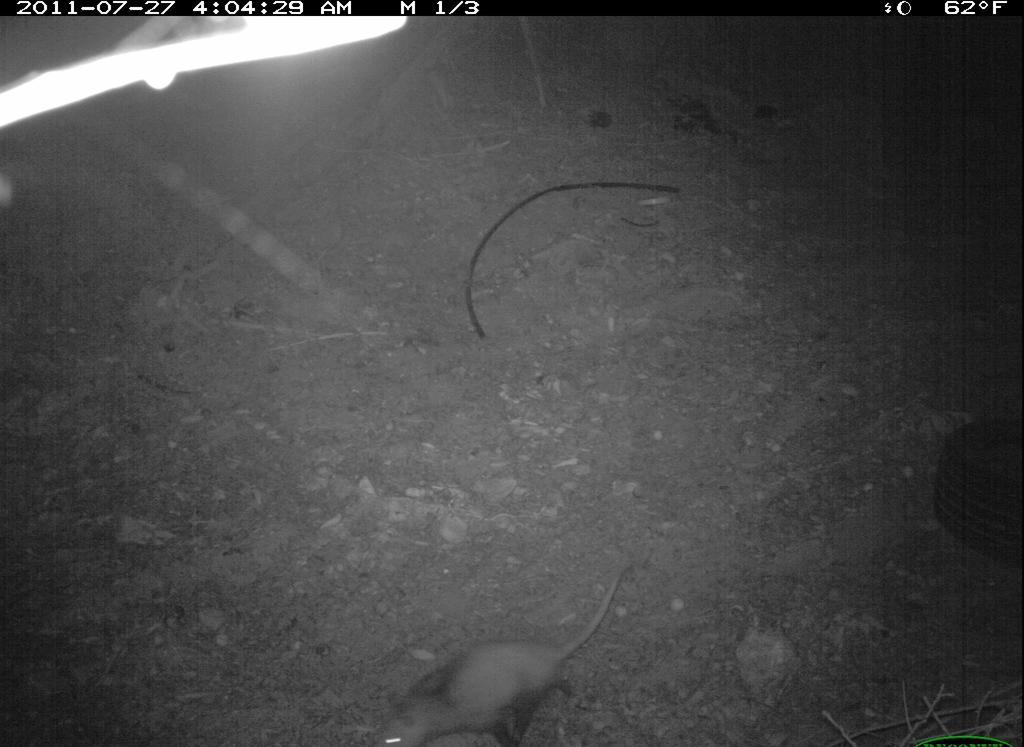opossum: (367, 562, 644, 747)
